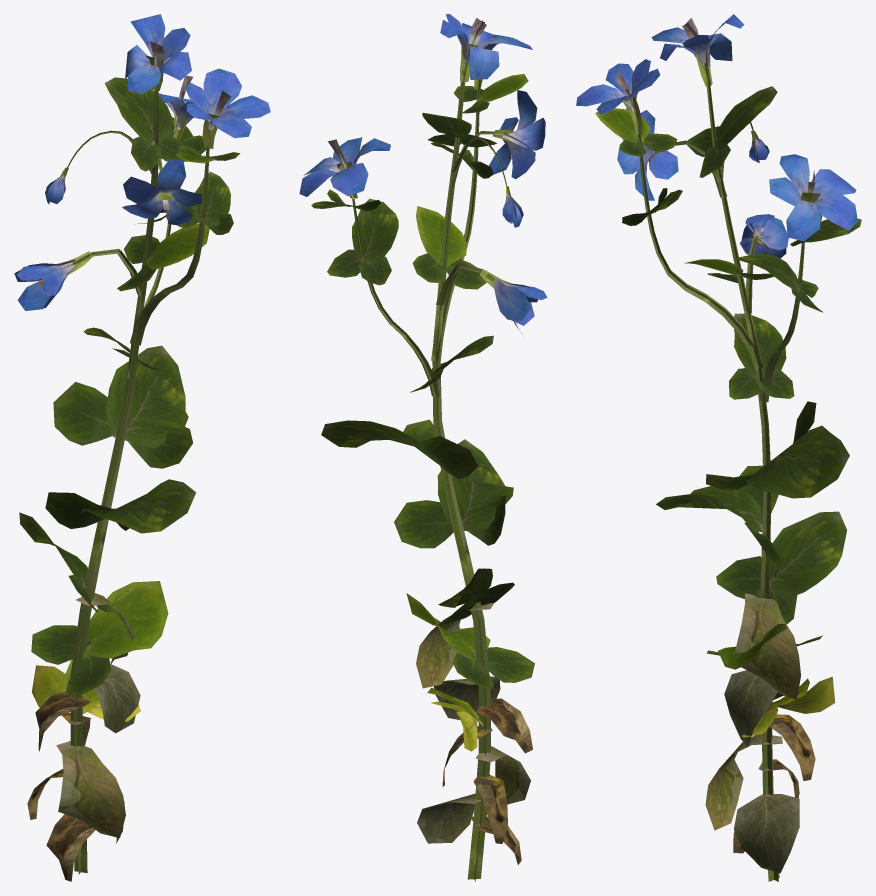
File: Periwinkle_OG_normal_deepblue.glb
The picture shows the model from 3 angles, left to right: view 1: azimuth 30°, elevation 25°; view 2: azimuth 150°, elevation 25°; view 3: azimuth 270°, elevation 25°; orthographic projection. The views are drawn at different scales.
Visible parts, largest first — view 1: _419c_Var3_LOD1; view 2: _419c_Var3_LOD1; view 3: _419c_Var3_LOD1.
Boxes of the visible parts, x1=… form: _419c_Var3_LOD1: x1=14, y1=14, x2=270, y2=881; _419c_Var3_LOD1: x1=299, y1=14, x2=547, y2=881; _419c_Var3_LOD1: x1=576, y1=14, x2=861, y2=881.
Size of the model in its own units: 0.6129 by 2.19 by 0.6394.
1 material, 1 textured.
